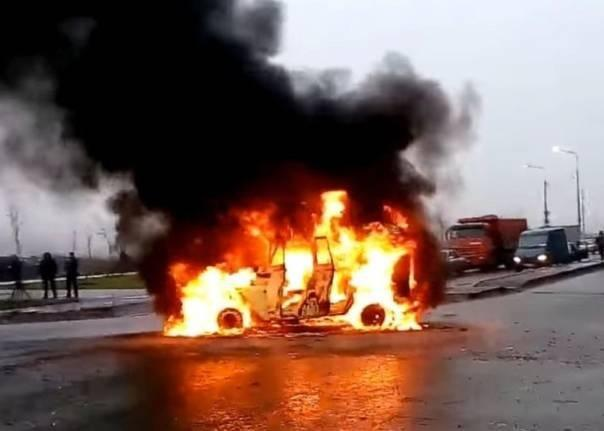fire: (163, 170, 430, 346)
